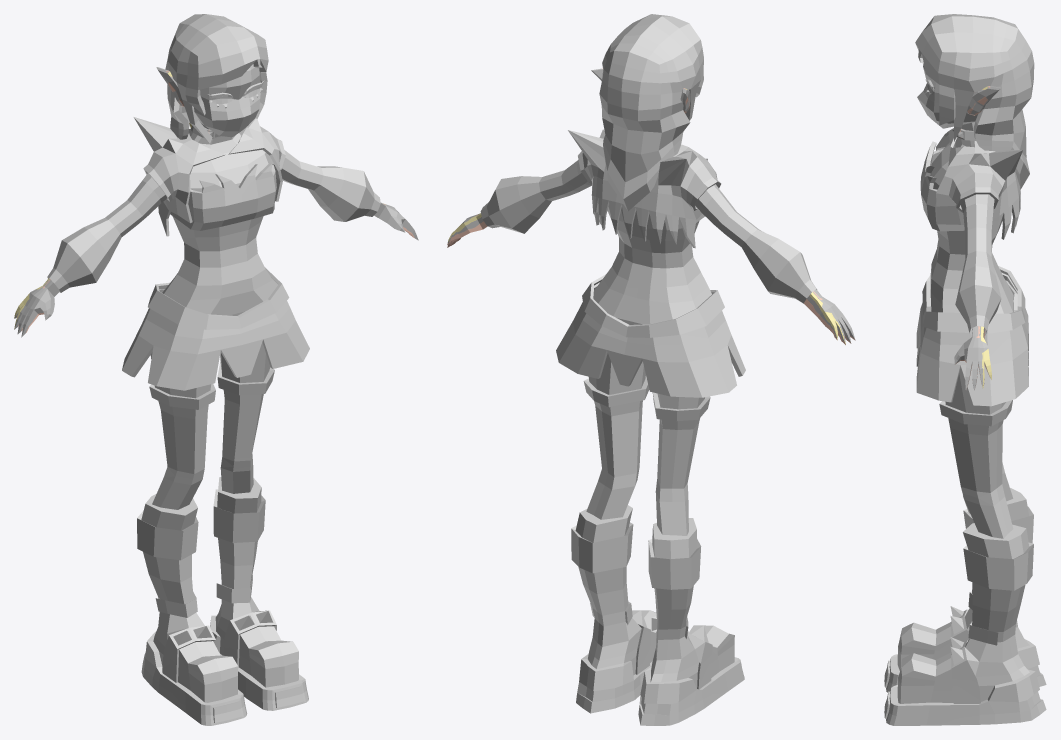
The model's file is Proto prota arabella 2 - Camaraless.fbx.
3 views of the same model, side by side, from view 1: azimuth 30°, elevation 25°; view 2: azimuth 150°, elevation 25°; view 3: azimuth 270°, elevation 25° (orthographic). The views are drawn at different scales.
Visible parts, largest first — view 1: cuerpo, Cube.007, cabello, capa, top, Cube.001, manos; view 2: cuerpo, cabello, Cube.007, capa, manos; view 3: cuerpo, cabello, Cube.007, capa, manos, top, Cube.001, Cube.008.
Boxes of the visible parts, left/top/right/bottom form: cuerpo: left=47, top=122, right=380, bottom=725; Cube.007: left=122, top=267, right=309, bottom=390; cabello: left=165, top=14, right=268, bottom=143; capa: left=133, top=117, right=285, bottom=236; top: left=170, top=163, right=276, bottom=230; Cube.001: left=194, top=64, right=261, bottom=137; manos: left=14, top=202, right=418, bottom=337; cuerpo: left=480, top=160, right=816, bottom=725; cabello: left=599, top=14, right=703, bottom=211; Cube.007: left=556, top=274, right=745, bottom=397; capa: left=568, top=129, right=721, bottom=248; manos: left=447, top=213, right=855, bottom=344; cuerpo: left=884, top=122, right=1046, bottom=725; cabello: left=915, top=14, right=1034, bottom=189; Cube.007: left=916, top=266, right=1028, bottom=406; capa: left=936, top=128, right=1022, bottom=240; manos: left=954, top=326, right=991, bottom=390; top: left=920, top=141, right=964, bottom=231; Cube.001: left=917, top=64, right=977, bottom=128; Cube.008: left=966, top=86, right=1000, bottom=115.
Size of the model in its own units: 114 by 181 by 39.04.
